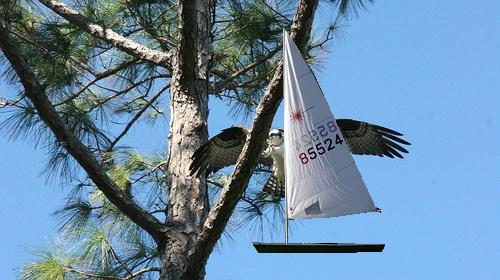tampered: (253, 27, 385, 253)
